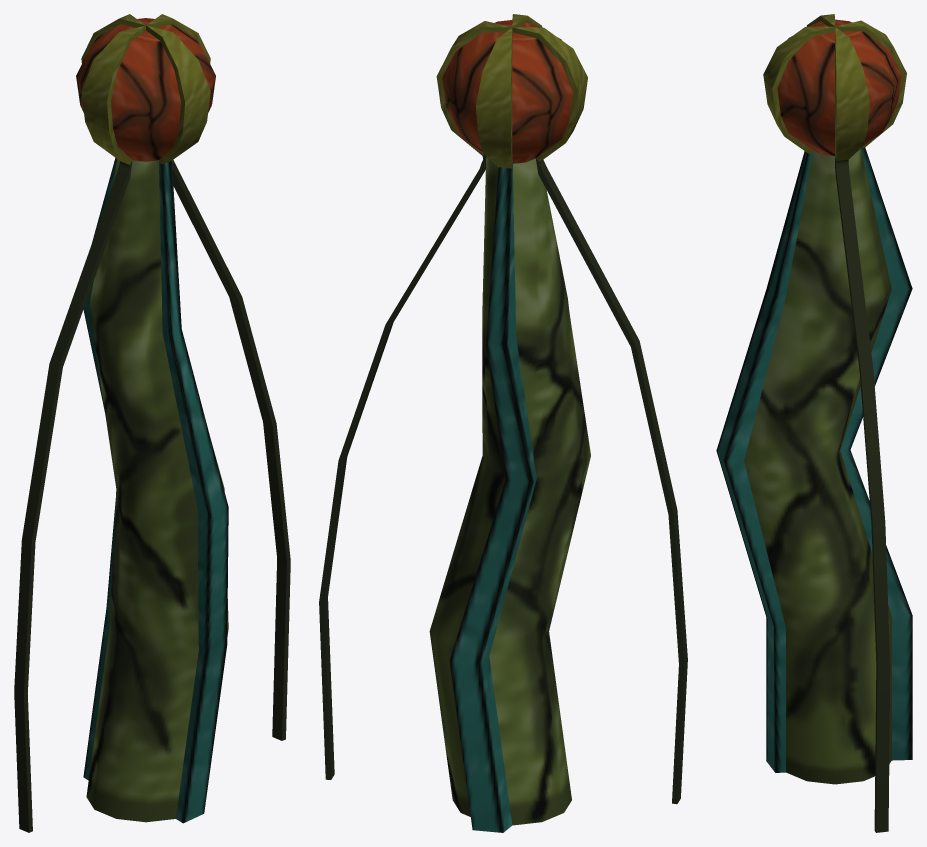
The model's file is SmallFruitPlant.fbx.
The picture shows the model from 3 angles, left to right: view 1: azimuth 30°, elevation 25°; view 2: azimuth 150°, elevation 25°; view 3: azimuth 270°, elevation 25°; orthographic projection. The views are drawn at different scales.
Visible parts, largest first — view 1: SmallFruitPlant1; view 2: SmallFruitPlant1; view 3: SmallFruitPlant1.
Boxes of the visible parts, x1,y1,x2,y2 form: SmallFruitPlant1: [14, 14, 290, 832]; SmallFruitPlant1: [319, 14, 687, 832]; SmallFruitPlant1: [716, 14, 912, 832].
Size of the model in its own units: 25.66 by 59.34 by 14.37.
1 material, 1 textured.
